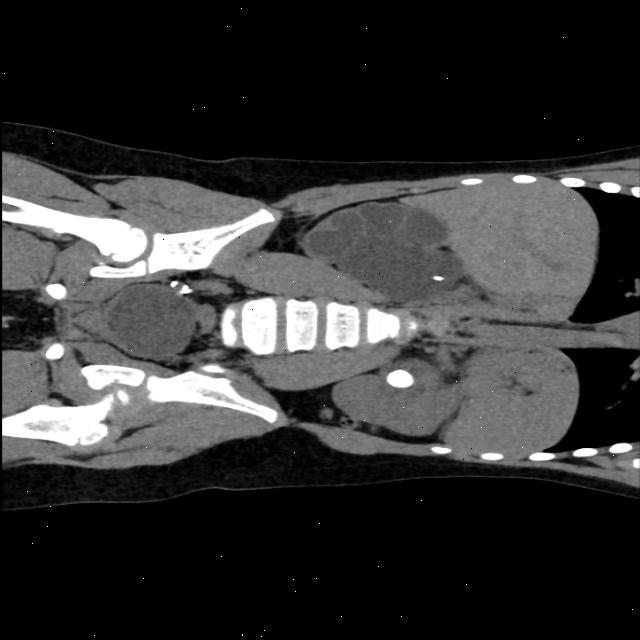kidneystone: (386, 370, 413, 388), (431, 276, 443, 281)
